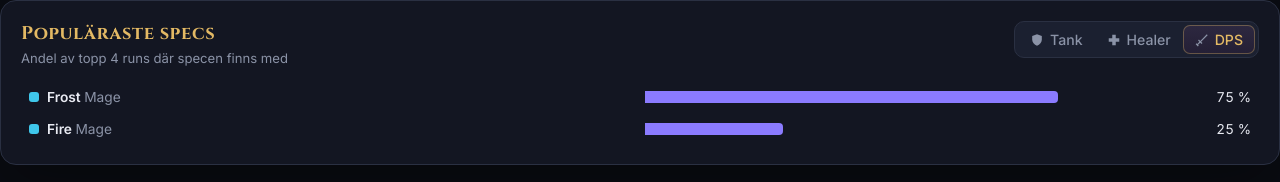
Test: SpecChart › byter till healers när man väljer rollen
Click the radio button labelled "Healer" at (1139, 40), box x1=1094 y1=25 x2=1183 y2=54
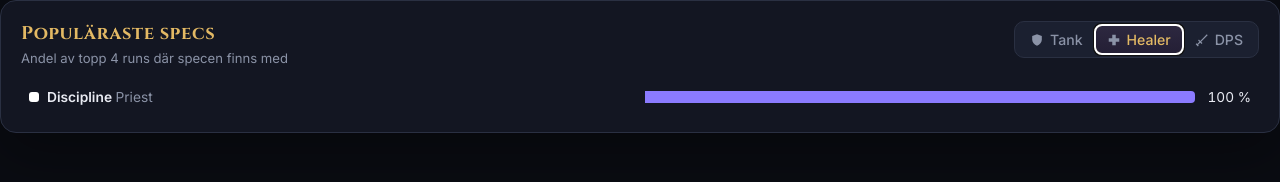
Check: the number of list items is 1, box x1=29 y1=89 x2=1251 y2=105
Check: the list item shows "Discipline", box x1=47 y1=89 x2=112 y2=105
Check: the list item shows "100 %", box x1=29 y1=89 x2=1251 y2=105
